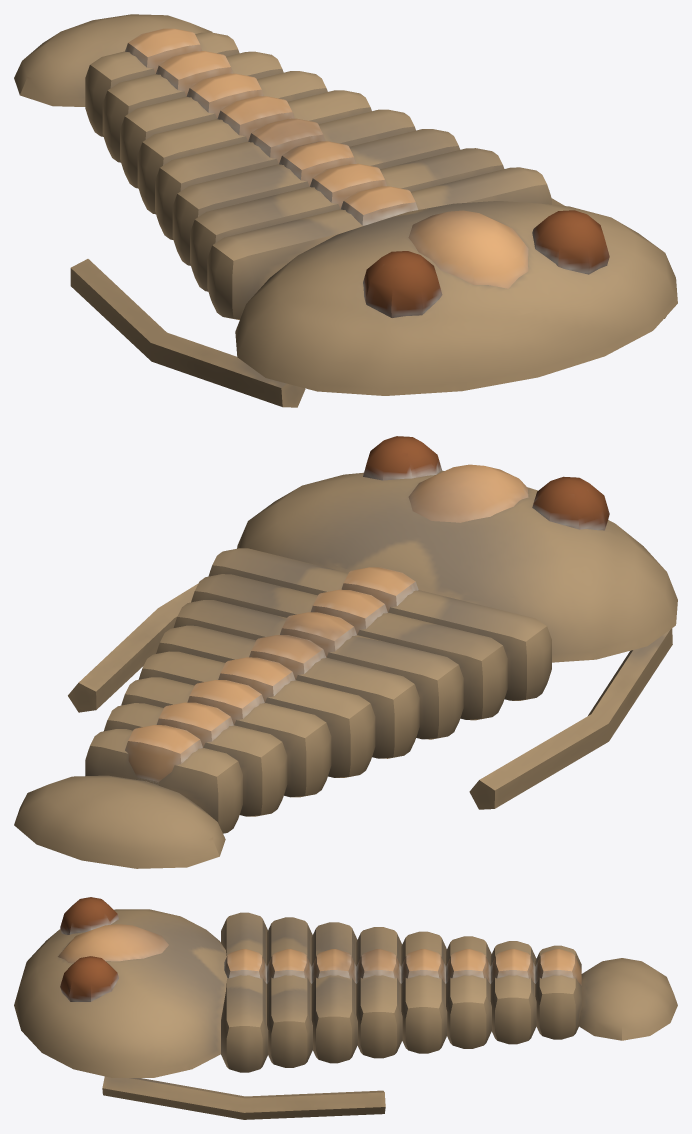
The model's file is trilobite.glb.
3 renders of one model, top to bottom at view 1: azimuth 30°, elevation 25°; view 2: azimuth 150°, elevation 25°; view 3: azimuth 270°, elevation 25°, orthographic. The views are drawn at different scales.
Visible parts, largest first — view 1: SM_Trilobite; view 2: SM_Trilobite; view 3: SM_Trilobite.
Part boxes in pixels (x1=…): SM_Trilobite: x1=14, y1=14, x2=677, y2=407; SM_Trilobite: x1=14, y1=436, x2=677, y2=868; SM_Trilobite: x1=14, y1=897, x2=677, y2=1119.
Bounding box in the file's own units: 0.2763 × 0.0886 × 0.475.
Materials: 2 (2 with a texture image).
